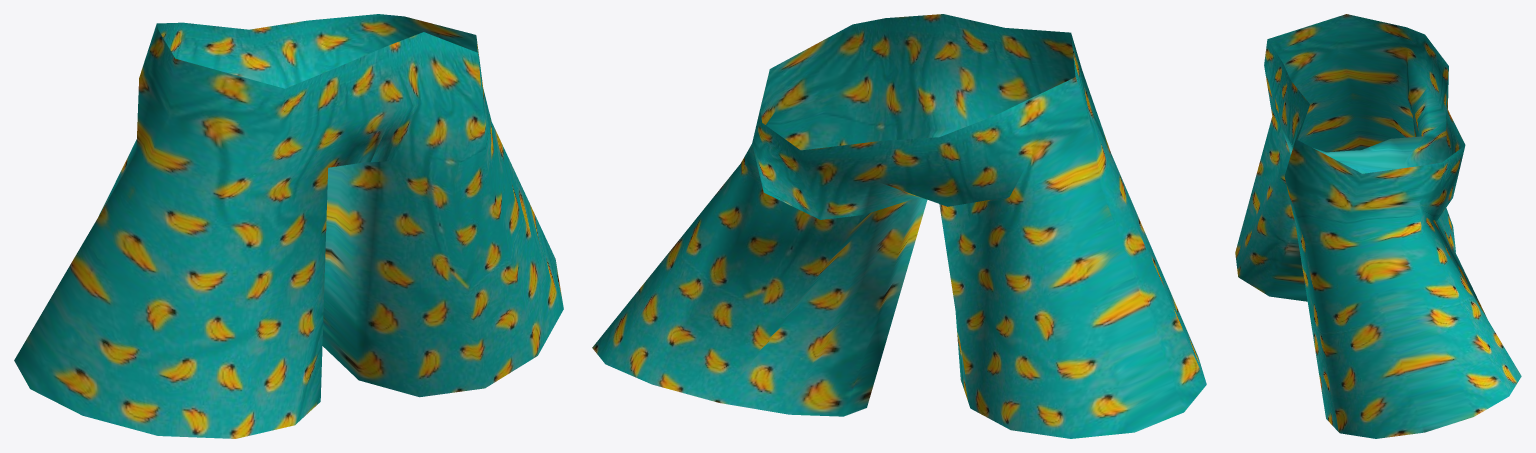
File: Bottom3.fbx
3 renders of one model, left to right at view 1: azimuth 30°, elevation 25°; view 2: azimuth 150°, elevation 25°; view 3: azimuth 270°, elevation 25°, orthographic. The views are drawn at different scales.
Visible parts, largest first — view 1: F.Bottom.Short; view 2: F.Bottom.Short; view 3: F.Bottom.Short.
Boxes of the visible parts, x1,y1,x2,y2 form: F.Bottom.Short: (14, 14, 563, 438); F.Bottom.Short: (592, 14, 1206, 438); F.Bottom.Short: (1235, 14, 1521, 438).
Size of the model in its own units: 554 by 370 by 324.
